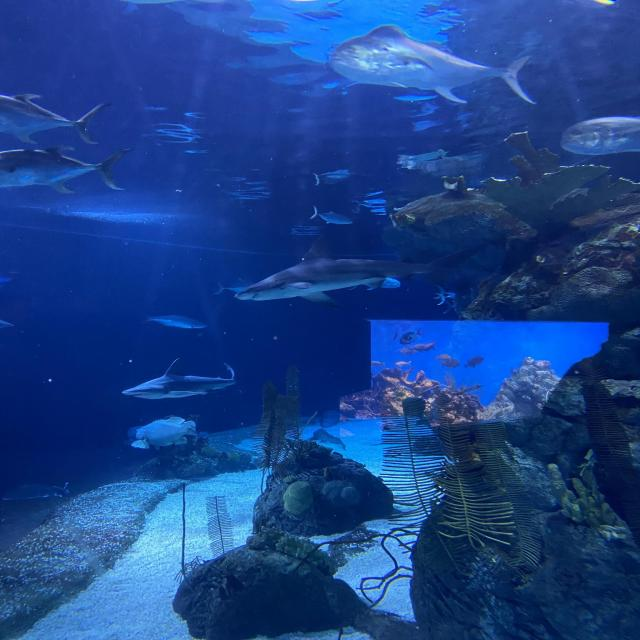fish: (330, 25, 537, 105), (0, 146, 131, 196), (0, 94, 111, 144), (562, 117, 640, 155), (132, 416, 196, 451), (146, 314, 207, 331), (350, 275, 403, 290), (310, 207, 353, 225), (214, 279, 258, 295), (434, 285, 466, 305), (399, 328, 424, 344), (412, 341, 437, 353), (464, 355, 484, 368), (440, 358, 459, 369), (396, 360, 410, 368), (434, 355, 450, 361), (401, 348, 415, 354), (370, 361, 384, 367), (393, 329, 397, 340)
shark: (238, 236, 484, 306), (124, 358, 238, 400), (309, 428, 347, 452)
stingray: (2, 483, 69, 501)
